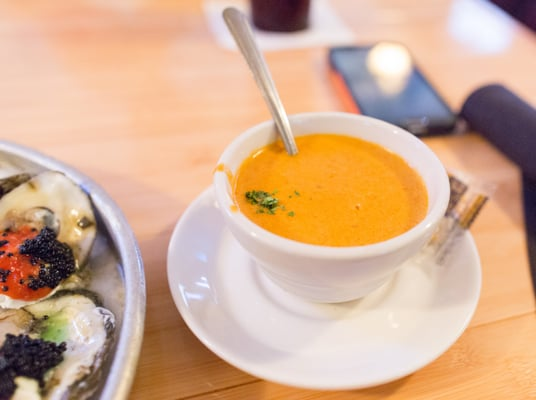pizza: (214, 111, 457, 309), (248, 0, 312, 33)
salad: (223, 5, 299, 157)
sushi: (212, 111, 455, 310), (0, 161, 146, 400)
